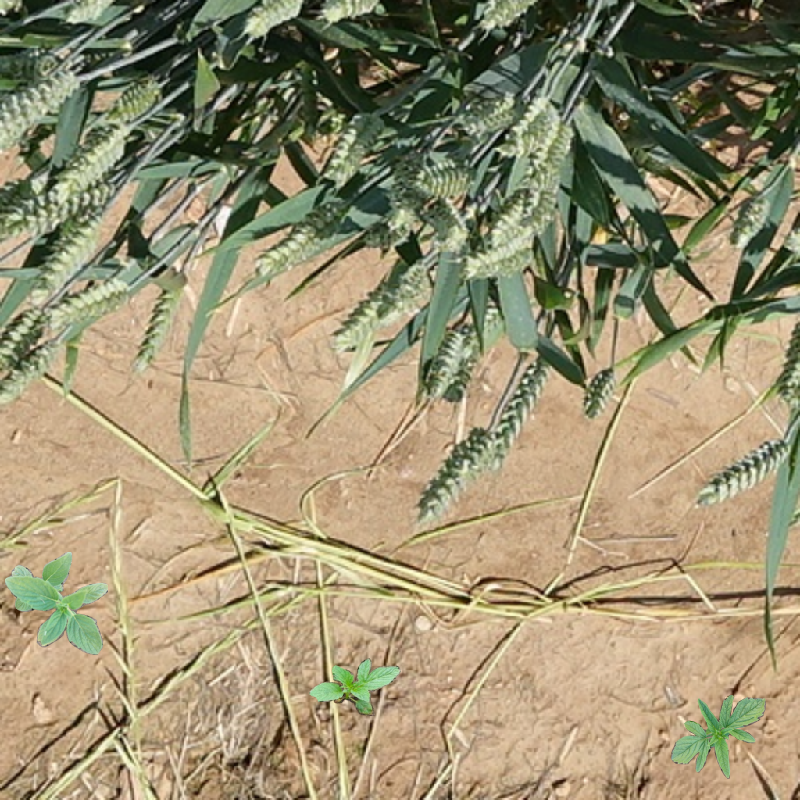spikelet: (325, 250, 437, 350), (410, 423, 501, 521), (130, 267, 199, 378), (252, 200, 350, 276), (33, 203, 103, 309), (484, 353, 549, 467), (1, 78, 82, 162), (696, 439, 787, 512), (463, 207, 555, 279), (51, 127, 137, 203), (43, 271, 133, 333), (317, 101, 385, 181), (385, 145, 475, 205), (419, 313, 483, 397), (469, 187, 543, 251), (33, 185, 117, 241), (1, 335, 57, 412), (527, 123, 575, 211), (447, 81, 521, 137), (371, 179, 429, 247), (507, 87, 559, 161), (577, 357, 627, 417), (1, 175, 46, 241), (1, 300, 44, 367), (9, 39, 72, 82), (103, 80, 159, 128), (239, 1, 309, 35), (726, 196, 768, 252), (469, 1, 547, 31), (781, 317, 800, 409), (315, 1, 389, 23), (58, 1, 124, 25)
weed: (5, 552, 108, 655), (671, 695, 766, 779), (309, 658, 401, 716)
